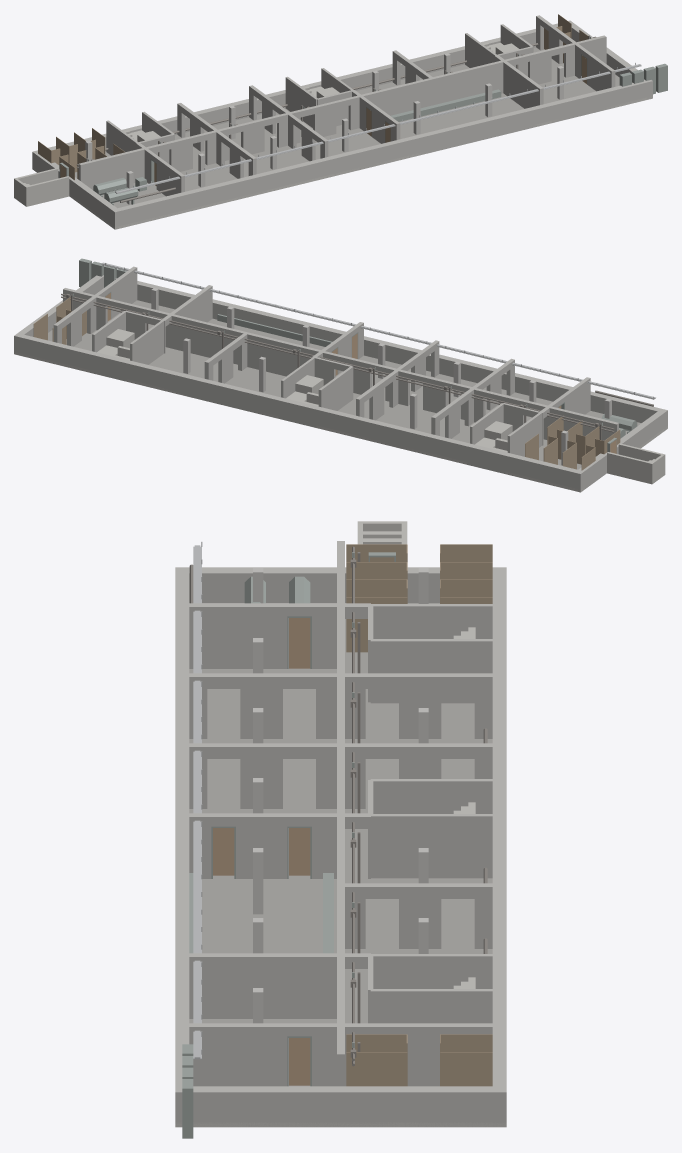
File: b6_basement.glb
3 views of the same model, one above another, from view 1: azimuth 30°, elevation 25°; view 2: azimuth 150°, elevation 25°; view 3: azimuth 270°, elevation 25° (orthographic). The views are drawn at different scales.
Visible parts, largest first — view 1: b6_bsm_wall_f-1__basement_wall, b6_bsm_floor_f-1__basement_floor, b6_bsm_equip_f-1__equipment, b6_bsm_column_f-1__column, b6_bsm_grid_f-1__storage_grid, b6_bsm_tray_f-1__cable_tray, b6_bsm_pit_f-1__monolith, b6_bsm_floor_f-1__slab_edge, b6_bsm_pipe_f-1__pipe, b6_bsm_fill_f-1__monolith; view 2: b6_bsm_wall_f-1__basement_wall, b6_bsm_floor_f-1__basement_floor, b6_bsm_grid_f-1__storage_grid, b6_bsm_pipe_f-1__pipe, b6_bsm_column_f-1__column, b6_bsm_equip_f-1__equipment, b6_bsm_fill_f-1__monolith, b6_bsm_tray_f-1__cable_tray, b6_bsm_pit_f-1__monolith, b6_bsm_floor_f-1__slab_edge, b6_bsm_stairs_f-1__monolith; view 3: b6_bsm_wall_f-1__basement_wall, b6_bsm_floor_f-1__basement_floor, b6_bsm_grid_f-1__storage_grid, b6_bsm_column_f-1__column, b6_bsm_equip_f-1__equipment, b6_bsm_tray_f-1__cable_tray, b6_bsm_pipe_f-1__pipe, b6_bsm_floor_f-1__slab_edge, b6_bsm_pit_f-1__monolith, b6_door_328, b6_door_329, b6_door_330 (+1 smaller).
Boxes of the visible parts, box(x1,y1,x2,y2) form: b6_bsm_wall_f-1__basement_wall: box(32, 15, 652, 229); b6_bsm_floor_f-1__basement_floor: box(75, 47, 619, 208); b6_bsm_equip_f-1__equipment: box(59, 36, 667, 205); b6_bsm_column_f-1__column: box(85, 53, 563, 204); b6_bsm_grid_f-1__storage_grid: box(38, 14, 591, 180); b6_bsm_tray_f-1__cable_tray: box(115, 62, 641, 193); b6_bsm_pit_f-1__monolith: box(14, 168, 69, 206); b6_bsm_floor_f-1__slab_edge: box(32, 96, 652, 229); b6_bsm_pipe_f-1__pipe: box(77, 35, 596, 202); b6_bsm_fill_f-1__monolith: box(130, 42, 519, 141); b6_bsm_wall_f-1__basement_wall: box(14, 266, 667, 492); b6_bsm_floor_f-1__basement_floor: box(48, 300, 641, 469); b6_bsm_grid_f-1__storage_grid: box(33, 297, 620, 470); b6_bsm_pipe_f-1__pipe: box(61, 293, 653, 440); b6_bsm_column_f-1__column: box(151, 288, 611, 465); b6_bsm_equip_f-1__equipment: box(72, 258, 637, 453); b6_bsm_fill_f-1__monolith: box(97, 329, 512, 452); b6_bsm_tray_f-1__cable_tray: box(101, 262, 655, 399); b6_bsm_pit_f-1__monolith: box(607, 443, 665, 484); b6_bsm_floor_f-1__slab_edge: box(14, 352, 667, 492); b6_bsm_stairs_f-1__monolith: box(117, 346, 507, 450); b6_bsm_wall_f-1__basement_wall: box(175, 541, 506, 1127); b6_bsm_floor_f-1__basement_floor: box(189, 603, 492, 1086); b6_bsm_grid_f-1__storage_grid: box(346, 544, 492, 1086); b6_bsm_column_f-1__column: box(253, 568, 428, 1023); b6_bsm_equip_f-1__equipment: box(182, 552, 395, 1138); b6_bsm_tray_f-1__cable_tray: box(193, 541, 202, 1059); b6_bsm_pipe_f-1__pipe: box(189, 546, 487, 1066); b6_bsm_floor_f-1__slab_edge: box(175, 1122, 506, 1127); b6_bsm_pit_f-1__monolith: box(357, 521, 407, 544); b6_door_328: box(289, 618, 310, 668); b6_door_329: box(289, 828, 310, 875); b6_door_330: box(213, 828, 234, 875).
Bounding box in the file's own units: 50 × 2.68 × 12.
